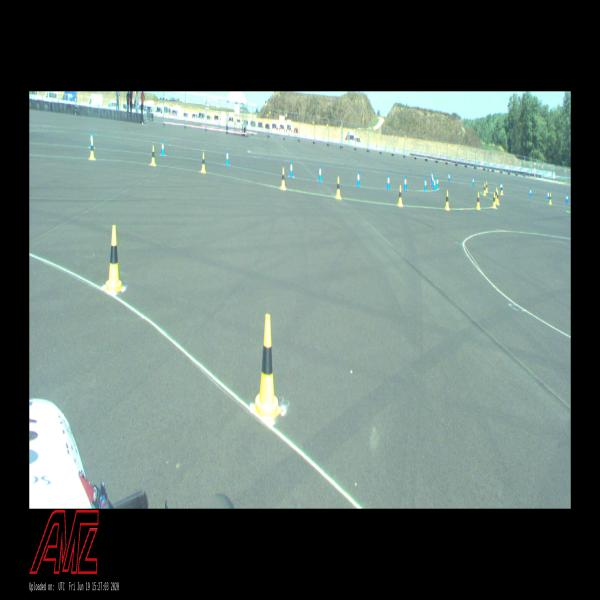blue_cone: (225, 148, 230, 166), (318, 164, 322, 182), (290, 160, 294, 178), (161, 139, 165, 156), (90, 131, 93, 149), (357, 170, 360, 186), (387, 174, 390, 189), (404, 176, 407, 190), (424, 177, 427, 191), (436, 176, 439, 189), (433, 177, 436, 190), (529, 187, 532, 197), (566, 193, 568, 204), (547, 190, 549, 201), (472, 176, 474, 187), (431, 175, 433, 186), (448, 172, 450, 182), (431, 172, 432, 182), (500, 182, 501, 192)
yellow_cone: (251, 314, 282, 422), (103, 225, 123, 292), (335, 176, 341, 199), (280, 167, 286, 190), (151, 146, 156, 167), (445, 190, 450, 210), (201, 152, 206, 172), (90, 140, 95, 160), (398, 185, 402, 206), (476, 192, 480, 209), (493, 192, 496, 208), (496, 190, 499, 205), (483, 183, 486, 196), (549, 193, 552, 204), (486, 181, 488, 193), (501, 184, 503, 195), (496, 188, 497, 201)
